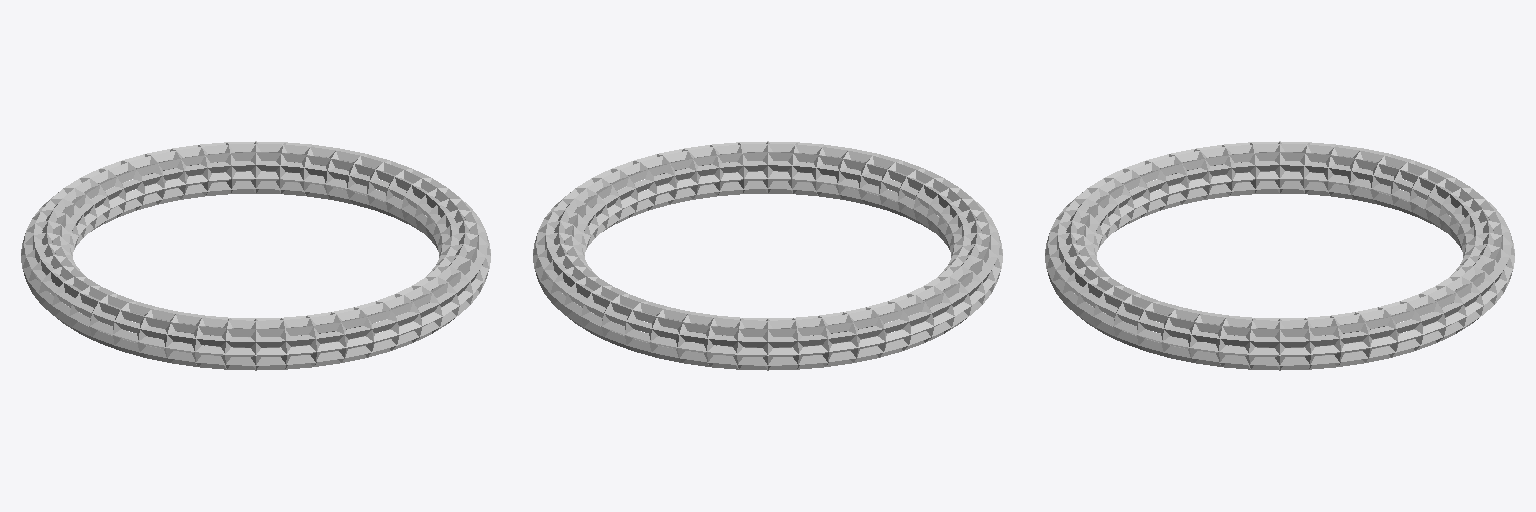
File: cog1.obj
3 renders of one model, left to right at view 1: azimuth 30°, elevation 25°; view 2: azimuth 150°, elevation 25°; view 3: azimuth 270°, elevation 25°, orthographic.
Visible parts, largest first — view 1: Torus; view 2: Torus; view 3: Torus.
Part boxes in pixels (x1,y1,x2,y2): Torus: (21, 141, 490, 370); Torus: (533, 141, 1002, 370); Torus: (1045, 141, 1514, 370).
Size of the model in its own units: 0.9 by 0.1 by 0.9.